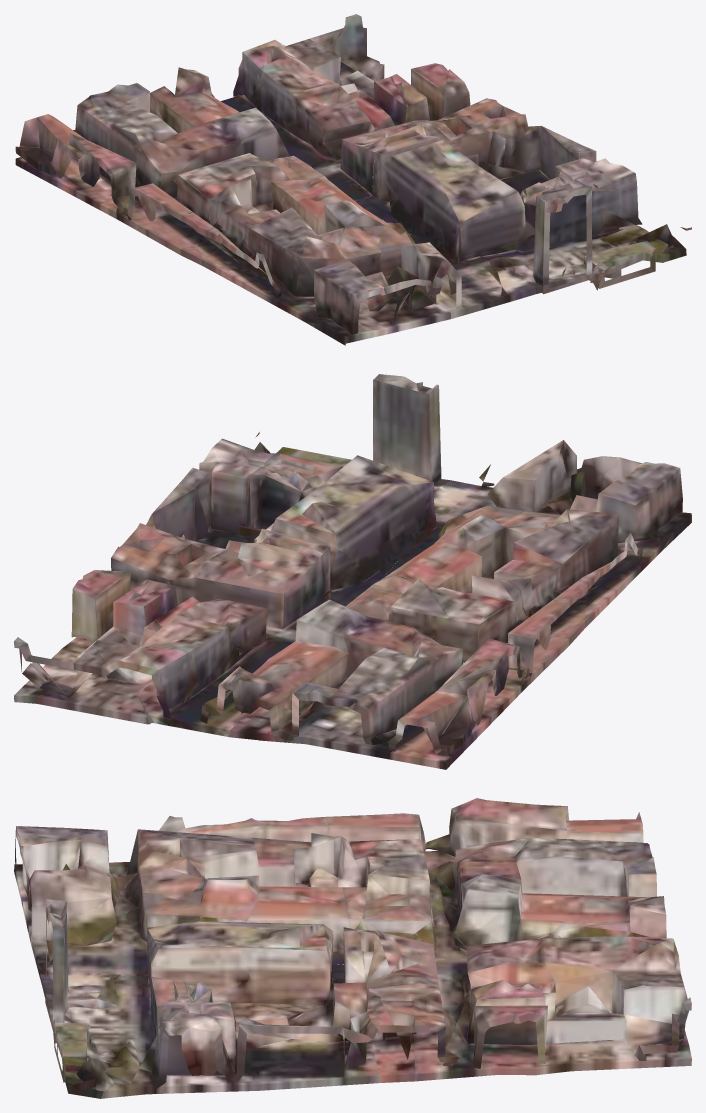
3 renders of one model, top to bottom at view 1: azimuth 30°, elevation 25°; view 2: azimuth 150°, elevation 25°; view 3: azimuth 270°, elevation 25°, orthographic. The views are drawn at different scales.
Parts seen in each view (by area): view 1: Mesh_0; view 2: Mesh_0; view 3: Mesh_0.
Part boxes in pixels (left/top/right/bottom): Mesh_0: left=15, top=14, right=691, bottom=345; Mesh_0: left=14, top=374, right=691, bottom=769; Mesh_0: left=14, top=798, right=691, bottom=1098.
Size of the model in its own units: 271 by 65.59 by 330.
1 material, 1 textured.
